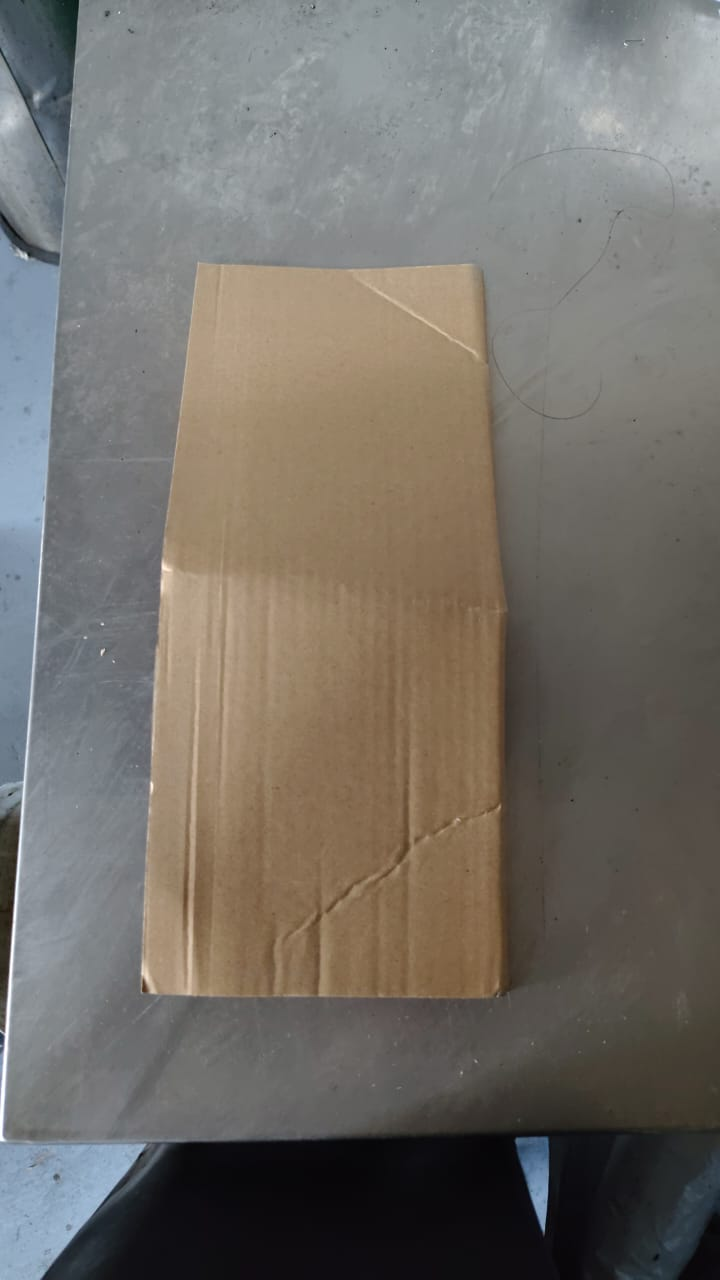Carton: (134, 266, 498, 994)
